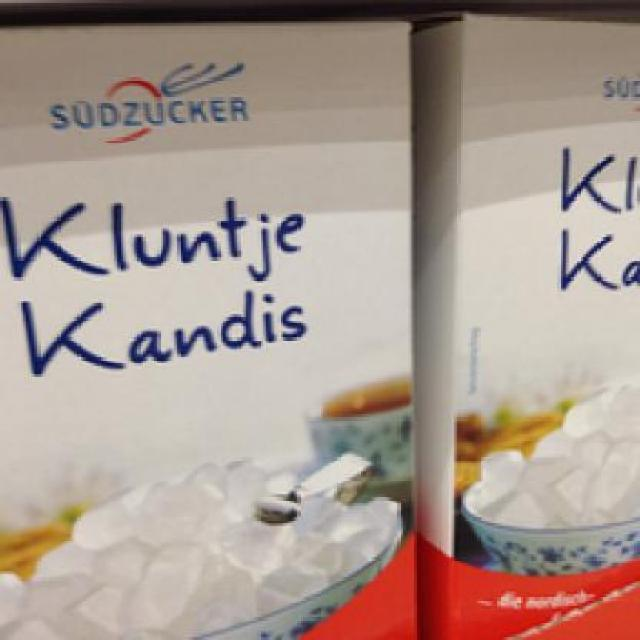Sugar: (0, 8, 420, 634), (408, 3, 638, 626)
